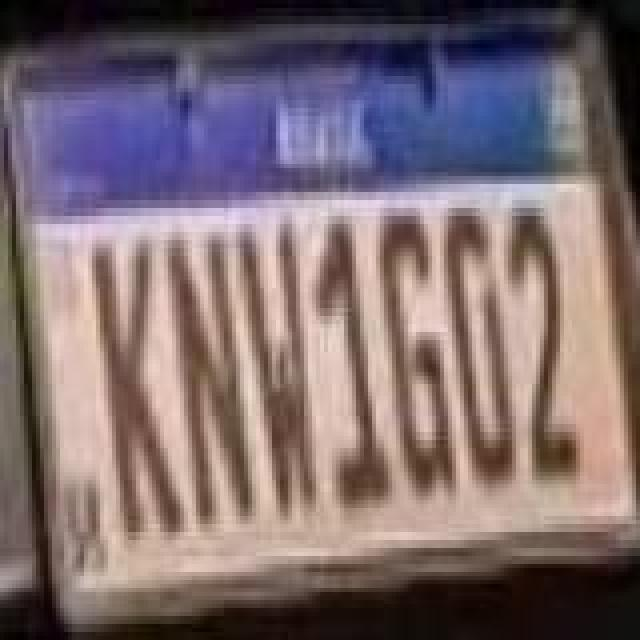1: (310, 214, 394, 506)
2: (508, 202, 580, 486)
D: (444, 210, 516, 494)
G: (378, 206, 462, 498)
K: (88, 238, 184, 546)
N: (162, 238, 254, 530)
W: (240, 222, 320, 530)
